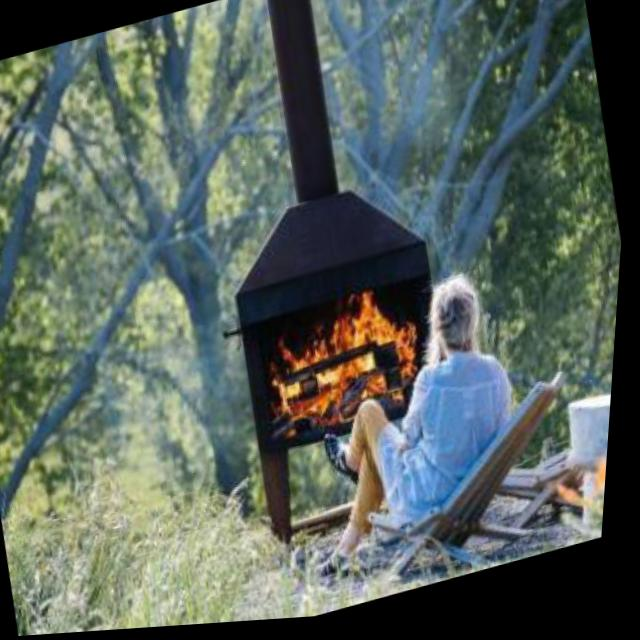Fire: (254, 273, 447, 459)
